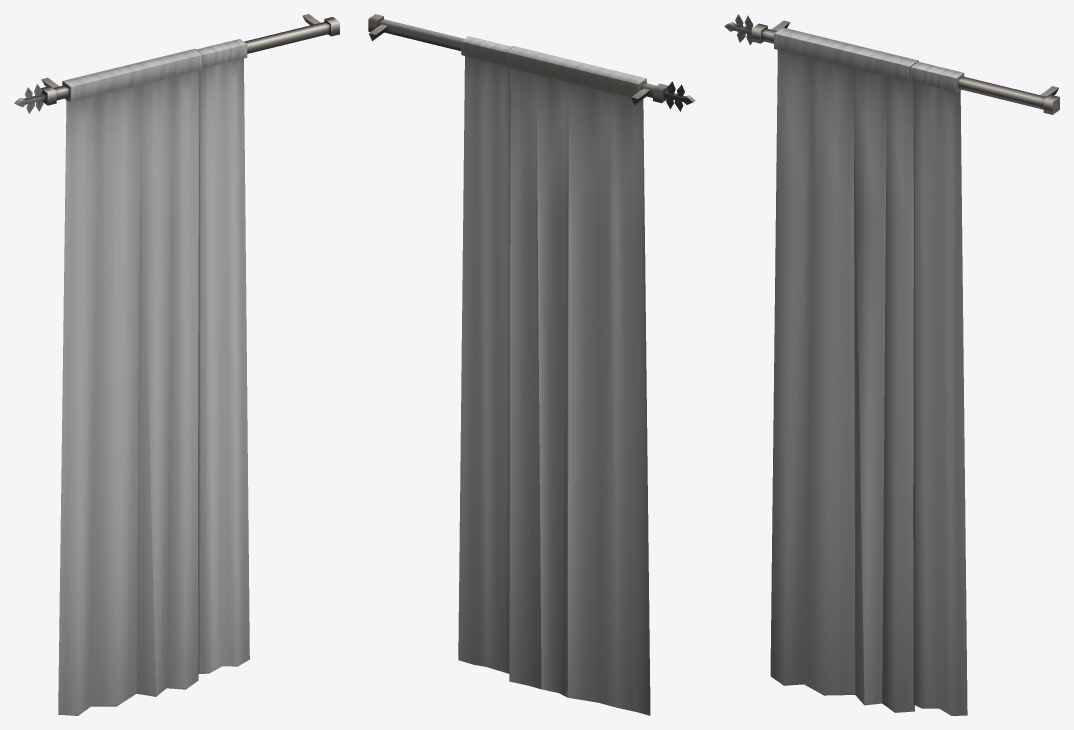
The model's file is cortinaIzquierda.fbx.
3 views of the same model, side by side, from view 1: azimuth 30°, elevation 25°; view 2: azimuth 150°, elevation 25°; view 3: azimuth 330°, elevation 25° (orthographic). The views are drawn at different scales.
Parts seen in each view (by area): view 1: cortina; view 2: cortina; view 3: cortina.
Boxes of the visible parts, box(x1,y1,x2,y2) form: cortina: box(14, 14, 339, 715); cortina: box(368, 14, 695, 715); cortina: box(724, 14, 1059, 715).
Bounding box in the file's own units: 150 × 285 × 15.63.
2 materials, 2 textured.
